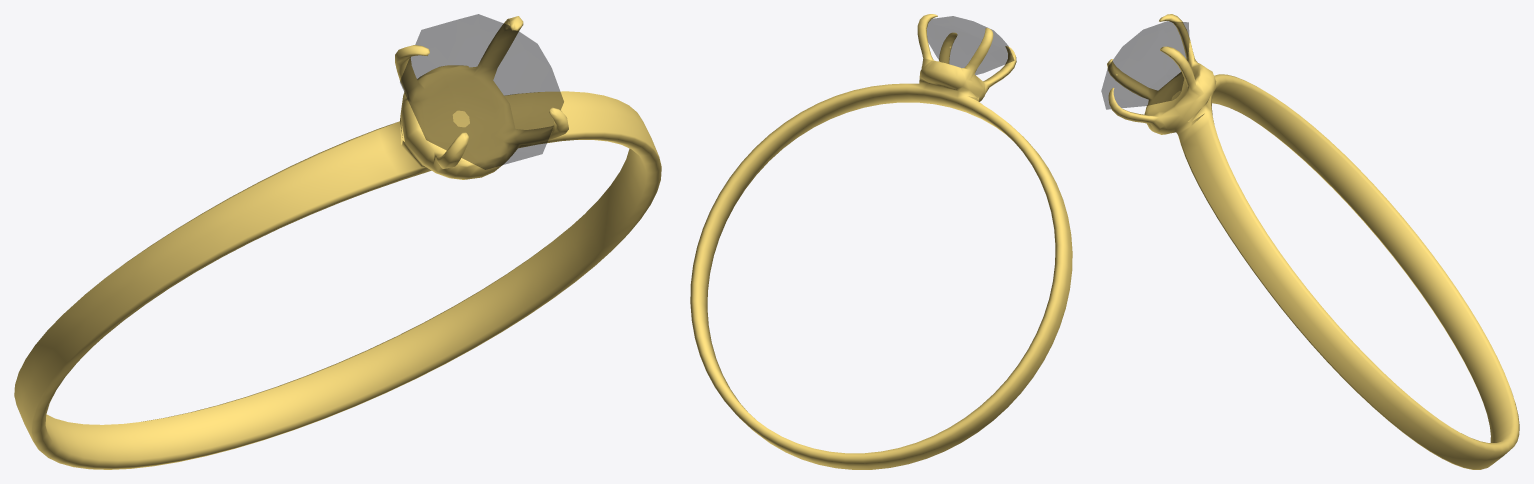
Rendered from ring_gold_with_diamond.glb.
3 views of the same model, side by side, from view 1: azimuth 30°, elevation 25°; view 2: azimuth 150°, elevation 25°; view 3: azimuth 270°, elevation 25° (orthographic). The views are drawn at different scales.
Parts seen in each view (by area): view 1: Cylinder_Material.006_0, Gem_Material.002_0; view 2: Cylinder_Material.006_0, Gem_Material.002_0; view 3: Cylinder_Material.006_0, Gem_Material.002_0.
Part boxes in pixels (x1=…): Cylinder_Material.006_0: x1=14, y1=16, x2=661, y2=469; Gem_Material.002_0: x1=400, y1=14, x2=563, y2=169; Cylinder_Material.006_0: x1=690, y1=14, x2=1072, y2=469; Gem_Material.002_0: x1=927, y1=16, x2=1014, y2=74; Cylinder_Material.006_0: x1=1107, y1=14, x2=1519, y2=469; Gem_Material.002_0: x1=1101, y1=21, x2=1189, y2=109.
Size of the model in its own units: 0.538 by 0.515 by 0.4702.
